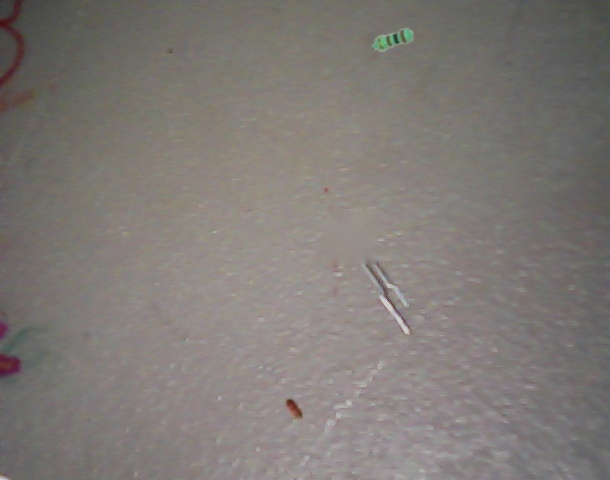resistor: (372, 29, 414, 51), (286, 399, 302, 419)
